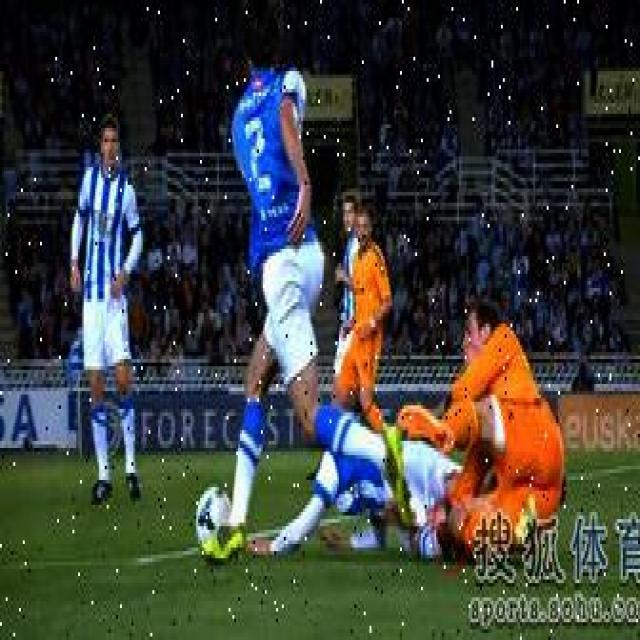fall: (425, 306, 564, 519)
